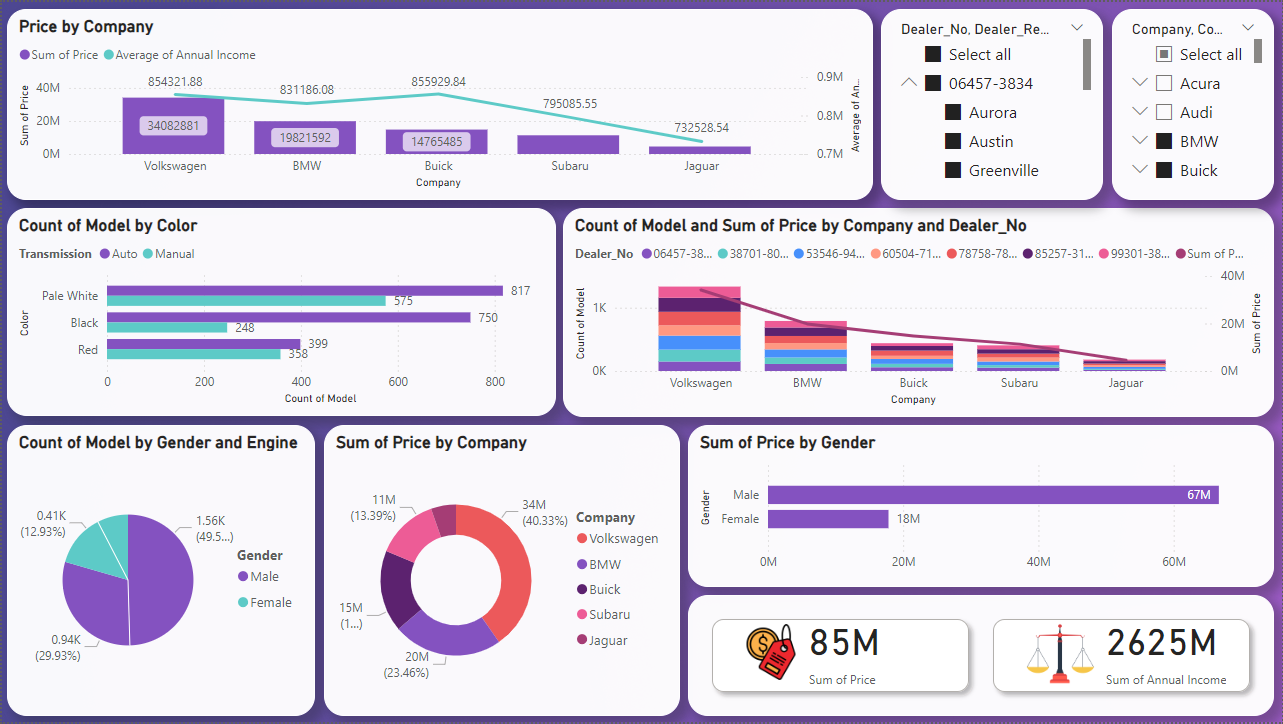

What the dashboard file says about the page in this screenshot:
{"tool":"powerbi","page":{"name":"Page 1","canvas":[1280,720],"ordinal":0},"visuals":[{"type":"lineClusteredColumnComboChart","title":"Price by Company","fields":{"Category":["Car Sales xlsx - car_data.Company"],"Y":["Sum(Car Sales xlsx - car_data.Price)"],"Y2":["Avg(Car Sales xlsx - car_data.Annual Income)"]},"box":[5.4,7.2,866,190.7],"z":0},{"type":"clusteredBarChart","title":"Count of Model by Color","fields":{"Category":["Car Sales xlsx - car_data.Color"],"Y":["CountNonNull(Car Sales xlsx - car_data.Model)"],"Series":["Car Sales xlsx - car_data.Transmission"]},"box":[5,206.1,548.9,208.3],"z":1000},{"type":"lineStackedColumnComboChart","fields":{"Category":["Car Sales xlsx - car_data.Company"],"Y":["CountNonNull(Car Sales xlsx - car_data.Model)"],"Series":["Car Sales xlsx - car_data.Dealer_No"],"Y2":["Sum(Car Sales xlsx - car_data.Price)"]},"box":[560.9,206.4,710.9,208.2],"z":2000},{"type":"pieChart","fields":{"Category":["Car Sales xlsx - car_data.Gender"],"Y":["CountNonNull(Car Sales xlsx - car_data.Model)"],"Series":["Car Sales xlsx - car_data.Engine"]},"box":[5,423,308,291],"z":3000},{"type":"donutChart","title":"Sum of Price by Company","fields":{"Category":["Car Sales xlsx - car_data.Company"],"Y":["Sum(Car Sales xlsx - car_data.Price ($))"]},"box":[321.8,422.7,356.4,290.9],"z":4000},{"type":"barChart","title":"Sum of Price by Gender","fields":{"Y":["Sum(Car Sales xlsx - car_data.Price ($))"],"Category":["Car Sales xlsx - car_data.Gender"]},"box":[686.4,422.7,585.5,161.8],"z":5000},{"type":"slicer","fields":{"Values":["Car Sales xlsx - car_data.Dealer_No","Car Sales xlsx - car_data.Dealer_Region"]},"box":[878.5,7.2,223,190.7],"z":6000},{"type":"slicer","fields":{"Values":["Car Sales xlsx - car_data.Company","Car Sales xlsx - car_data.Color"]},"box":[1109.6,7.2,162.1,190.7],"z":7000},{"type":"cardVisual","fields":{"Data":["Sum(Car Sales xlsx - car_data.Price)","Sum(Car Sales xlsx - car_data.Annual Income)"]},"box":[686.4,592.7,585.5,120.9],"z":8000}]}

Visuals, with their boxes in screenshot pixels (x1, y1, x2, y2), scaled from the page's 1280x720 canvas onto the 1283x724 screenshot:
"Price by Company" lineClusteredColumnComboChart: [5, 7, 873, 199]
"Count of Model by Color" clusteredBarChart: [5, 207, 555, 417]
lineStackedColumnComboChart - Car Sales xlsx - car_data.Company x CountNonNull(Car Sales xlsx - car_data.Model): [562, 208, 1275, 417]
pieChart - Car Sales xlsx - car_data.Gender x CountNonNull(Car Sales xlsx - car_data.Model): [5, 425, 314, 718]
"Sum of Price by Company" donutChart: [323, 425, 680, 718]
"Sum of Price by Gender" barChart: [688, 425, 1275, 588]
slicer - Car Sales xlsx - car_data.Dealer_No x Car Sales xlsx - car_data.Dealer_Region: [881, 7, 1104, 199]
slicer - Car Sales xlsx - car_data.Company x Car Sales xlsx - car_data.Color: [1112, 7, 1275, 199]
cardVisual - Sum(Car Sales xlsx - car_data.Price) x Sum(Car Sales xlsx - car_data.Annual Income): [688, 596, 1275, 718]
